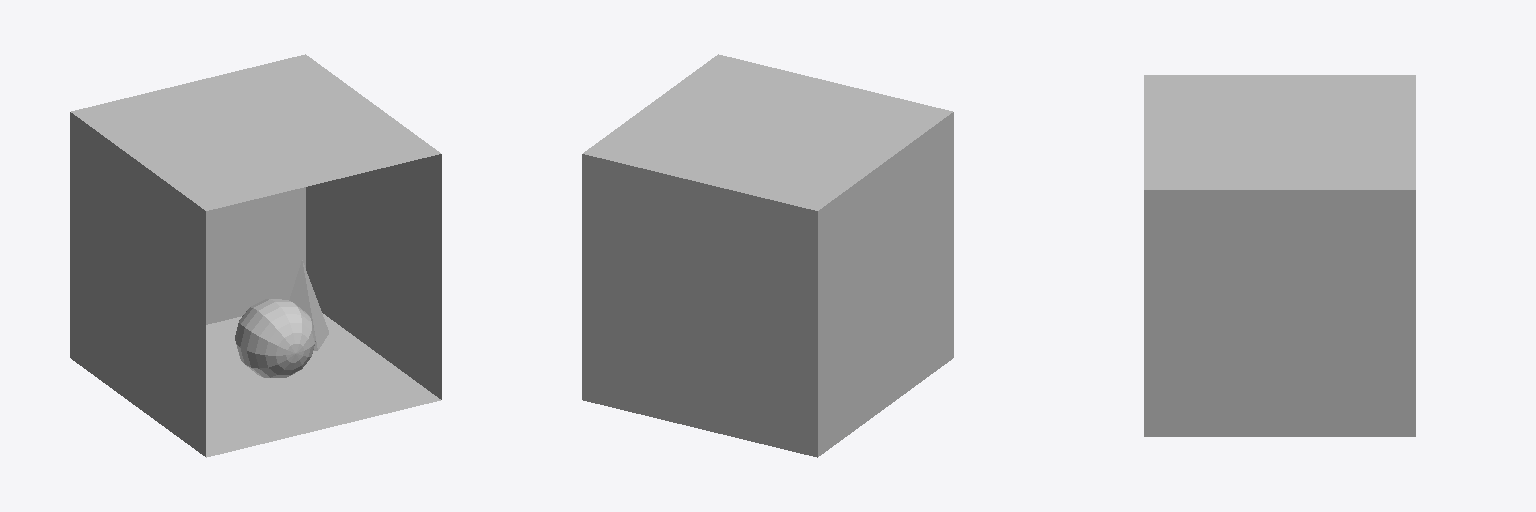
The model's file is cornell_box2.obj.
3 views of the same model, side by side, from view 1: azimuth 30°, elevation 25°; view 2: azimuth 150°, elevation 25°; view 3: azimuth 270°, elevation 25° (orthographic).
Bounding box in the file's own units: 1 × 1 × 1.